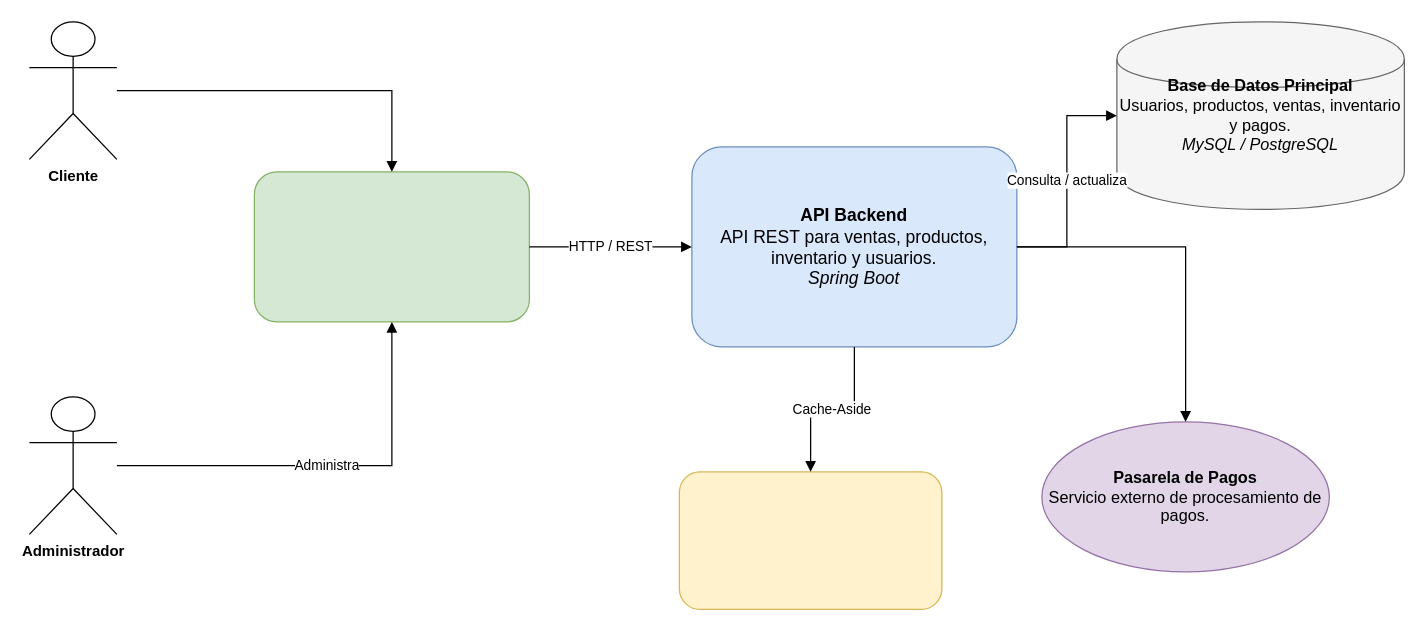
Some shapes in this 1426 by 631 pixel diagram are drawn without their labels. Each missing label, with the centre of its shape:
"Aplicación Web Interfaz para clientes y administradores. Web UI" belongs at point (391, 246).
"Redis Cache Información consultada frecuentemente. Redis" belongs at point (810, 540).
